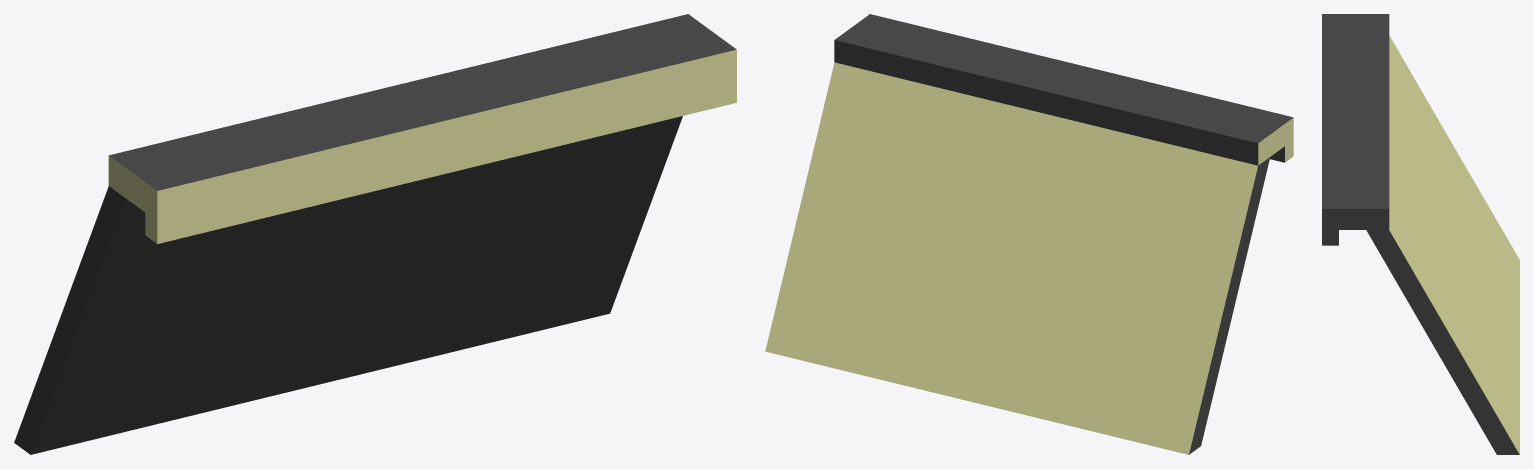
The model's file is cartel_peque.fbx.
3 views of the same model, side by side, from view 1: azimuth 30°, elevation 25°; view 2: azimuth 150°, elevation 25°; view 3: azimuth 270°, elevation 25° (orthographic). The views are drawn at different scales.
Visible parts, largest first — view 1: Cartel_info_pequeño; view 2: Cartel_info_pequeño; view 3: Cartel_info_pequeño.
Part boxes in pixels (x1,y1,x2,y2): Cartel_info_pequeño: (14, 14, 736, 454); Cartel_info_pequeño: (765, 14, 1293, 454); Cartel_info_pequeño: (1322, 14, 1519, 454).
Bounding box in the file's own units: 101 × 59.44 × 43.29.
